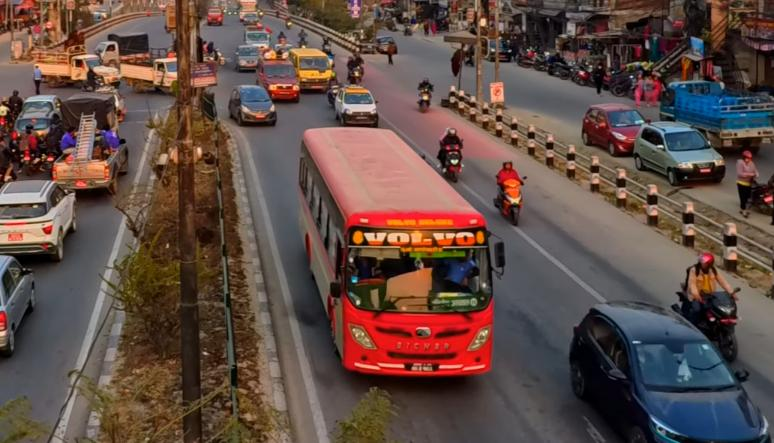bus: (292, 117, 511, 398)
